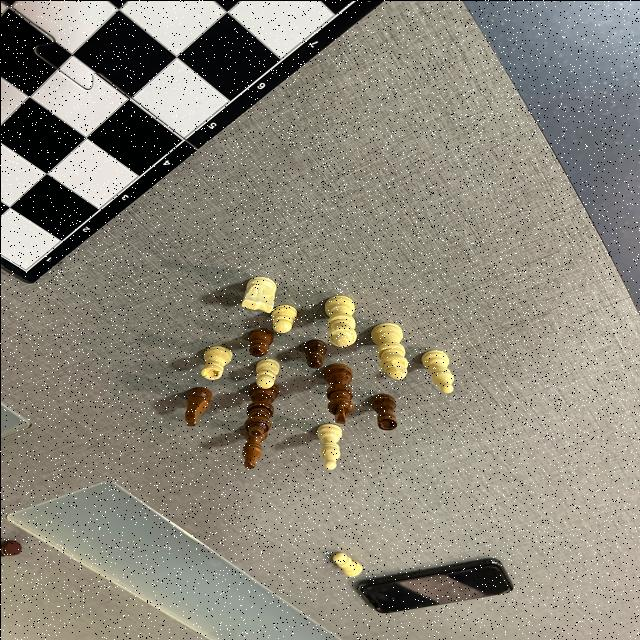Black-Bishop: (241, 431, 267, 468)
Black-King: (320, 362, 354, 423)
Black-Knight: (184, 386, 212, 426)
Black-Pawn: (246, 327, 272, 356), (302, 338, 326, 368)
Black-Queen: (244, 382, 278, 436)
Black-Rook: (368, 393, 396, 429)
White-Bishop: (419, 349, 454, 393), (316, 422, 342, 469)
White-King: (369, 322, 408, 379)
White-Knight: (240, 276, 276, 312)
White-Pawn: (330, 552, 362, 576), (254, 357, 278, 388), (270, 304, 296, 332)
White-Queen: (322, 294, 357, 346)
White-Rook: (200, 344, 232, 378)
